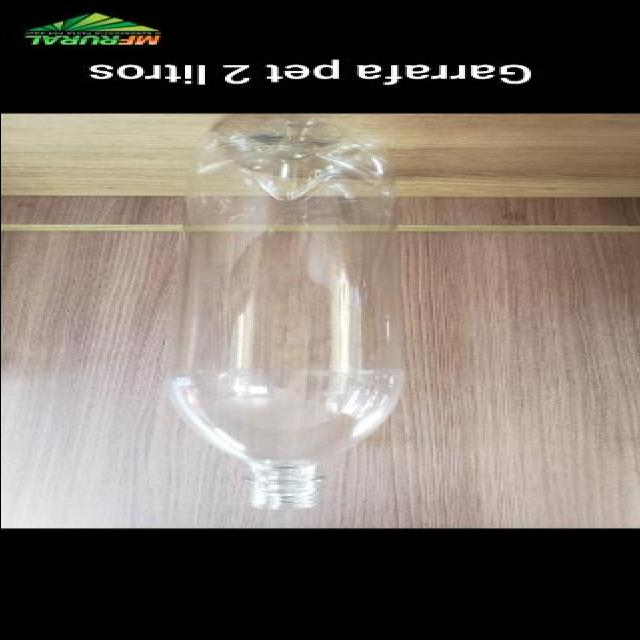bottom: (144, 118, 414, 190)
no_cap: (220, 460, 346, 511)
